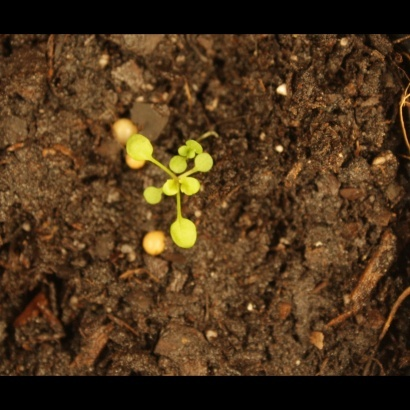leaf: (166, 212, 200, 253), (127, 185, 162, 222), (196, 142, 232, 177), (122, 131, 158, 163), (181, 174, 211, 206), (176, 135, 204, 160), (161, 177, 184, 200), (164, 154, 187, 177)
